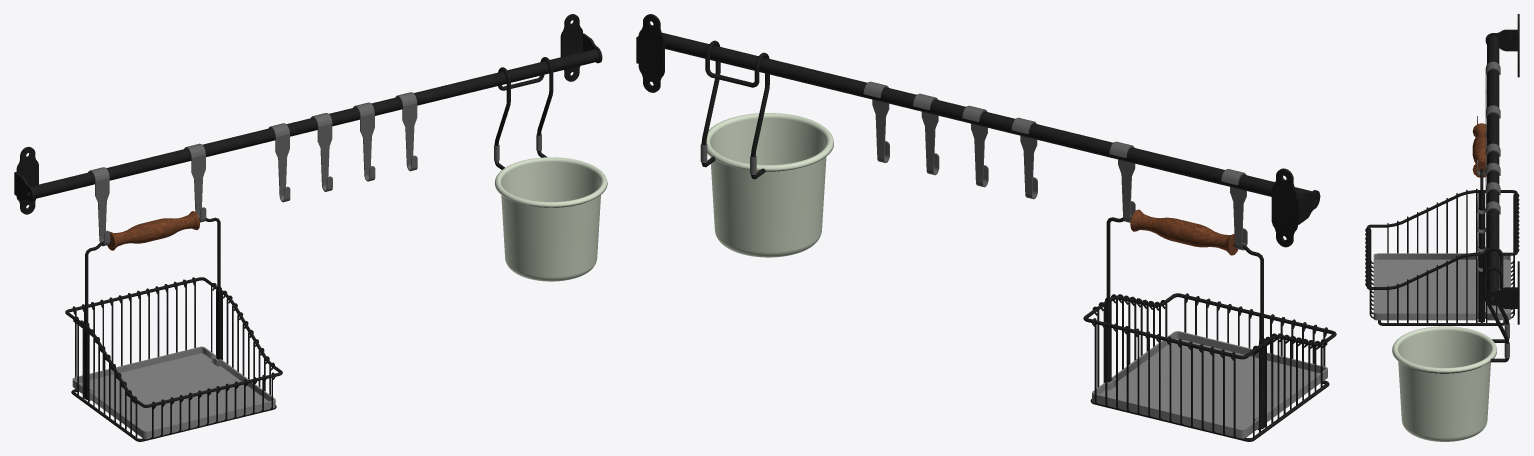
The model's file is 078 - stand divari jadid meshki goldan sabz.glb.
3 views of the same model, side by side, from view 1: azimuth 30°, elevation 25°; view 2: azimuth 150°, elevation 25°; view 3: azimuth 270°, elevation 25° (orthographic). The views are drawn at different scales.
Parts seen in each view (by area): view 1: Group#30 [93915], Group#10 [93090], Group#7 [93105], Group#1 [129989] (×4), Group#16 [129996] (×2), Group#13 [93091], Group#88 [93088], [77511], [21092], [21975], Group#15 [93089], Group#19 [93086]; view 2: Group#30 [93915], Group#10 [93090], Group#7 [93105], Group#1 [129989] (×4), Group#88 [93088], Group#16 [129996] (×2), Group#13 [93091], [77511], [21092], [21975], Group#15 [93089], Group#19 [93086]; view 3: Group#30 [93915], Group#10 [93090], Group#7 [93105], Group#13 [93091], Group#159 [21628] (×2), [77511], Group#1 [129989] (×4), Group#88 [93088], Group#16 [129996] (×2), Group#19 [93086], Group#11 [93087], Group#15 [93089] (+3 smaller).
Part boxes in pixels (x1,y1,x2,y2): Group#30 [93915]: [494, 157, 607, 281]; Group#10 [93090]: [72, 346, 275, 438]; Group#7 [93105]: [31, 49, 599, 198]; Group#1 [129989] (×4): [268, 92, 417, 202]; Group#16 [129996] (×2): [88, 143, 206, 246]; Group#13 [93091]: [65, 277, 282, 407]; Group#88 [93088]: [107, 211, 199, 250]; [77511]: [494, 57, 585, 207]; [21092]: [560, 14, 582, 81]; [21975]: [16, 147, 38, 214]; Group#15 [93089]: [85, 217, 220, 400]; Group#19 [93086]: [71, 389, 276, 441]; Group#30 [93915]: [706, 113, 833, 257]; Group#10 [93090]: [1092, 331, 1327, 438]; Group#7 [93105]: [662, 32, 1311, 196]; Group#1 [129989] (×4): [863, 81, 1037, 199]; Group#88 [93088]: [1130, 209, 1238, 255]; Group#16 [129996] (×2): [1109, 141, 1247, 250]; Group#13 [93091]: [1083, 293, 1336, 359]; [77511]: [701, 40, 792, 179]; [21092]: [638, 14, 664, 92]; [21975]: [1271, 168, 1297, 247]; Group#15 [93089]: [1106, 217, 1263, 430]; Group#19 [93086]: [1090, 380, 1329, 441]; Group#30 [93915]: [1392, 326, 1496, 441]; Group#10 [93090]: [1373, 253, 1510, 320]; Group#7 [93105]: [1487, 35, 1499, 299]; Group#13 [93091]: [1366, 190, 1517, 289]; Group#159 [21628] (×2): [1485, 29, 1519, 308]; [77511]: [1409, 246, 1509, 373]; Group#1 [129989] (×4): [1477, 143, 1500, 271]; Group#88 [93088]: [1472, 123, 1486, 177]; Group#16 [129996] (×2): [1477, 61, 1500, 175]; Group#19 [93086]: [1378, 320, 1505, 325]; Group#11 [93087]: [1478, 252, 1484, 322]; Group#15 [93089]: [1480, 168, 1483, 322].
Size of the model in its own units: 0.806 by 0.337 by 0.2035.
Materials: 8 (3 with a texture image).
